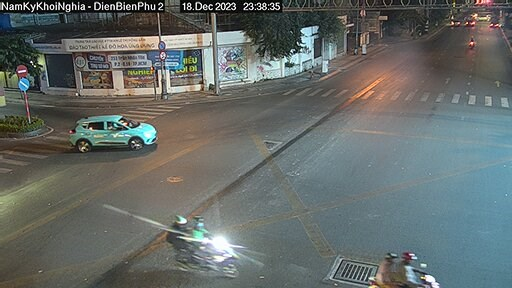car: (60, 109, 169, 153)
motorbike: (156, 208, 255, 279), (364, 236, 445, 287)
